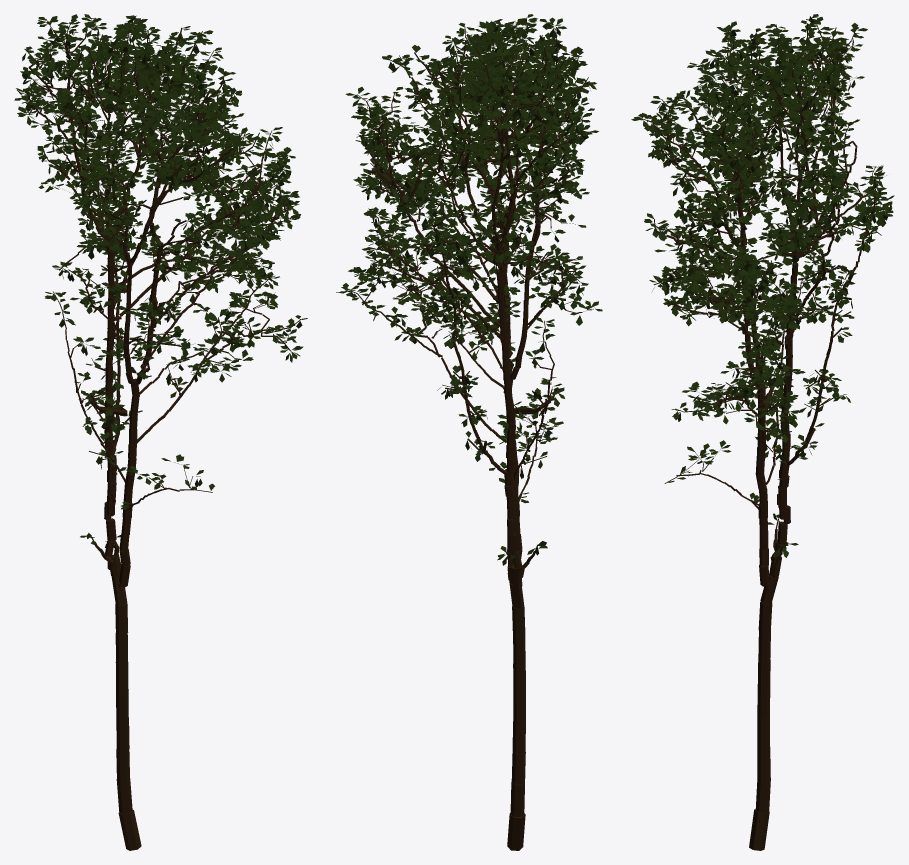
File: 2022_tree_96.obj
3 views of the same model, side by side, from view 1: azimuth 30°, elevation 25°; view 2: azimuth 150°, elevation 25°; view 3: azimuth 270°, elevation 25° (orthographic).
Parts seen in each view (by area): view 1: Leaves, TrunkAndBranches; view 2: Leaves, TrunkAndBranches; view 3: Leaves, TrunkAndBranches.
Part boxes in pixels (bbox=[...]): Leaves: bbox=[14, 14, 307, 547]; TrunkAndBranches: bbox=[19, 16, 300, 850]; Leaves: bbox=[339, 14, 602, 565]; TrunkAndBranches: bbox=[336, 17, 594, 850]; Leaves: bbox=[631, 14, 894, 557]; TrunkAndBranches: bbox=[642, 16, 886, 850].
Bounding box in the file's own units: 7.78 × 23.6 × 6.85.
